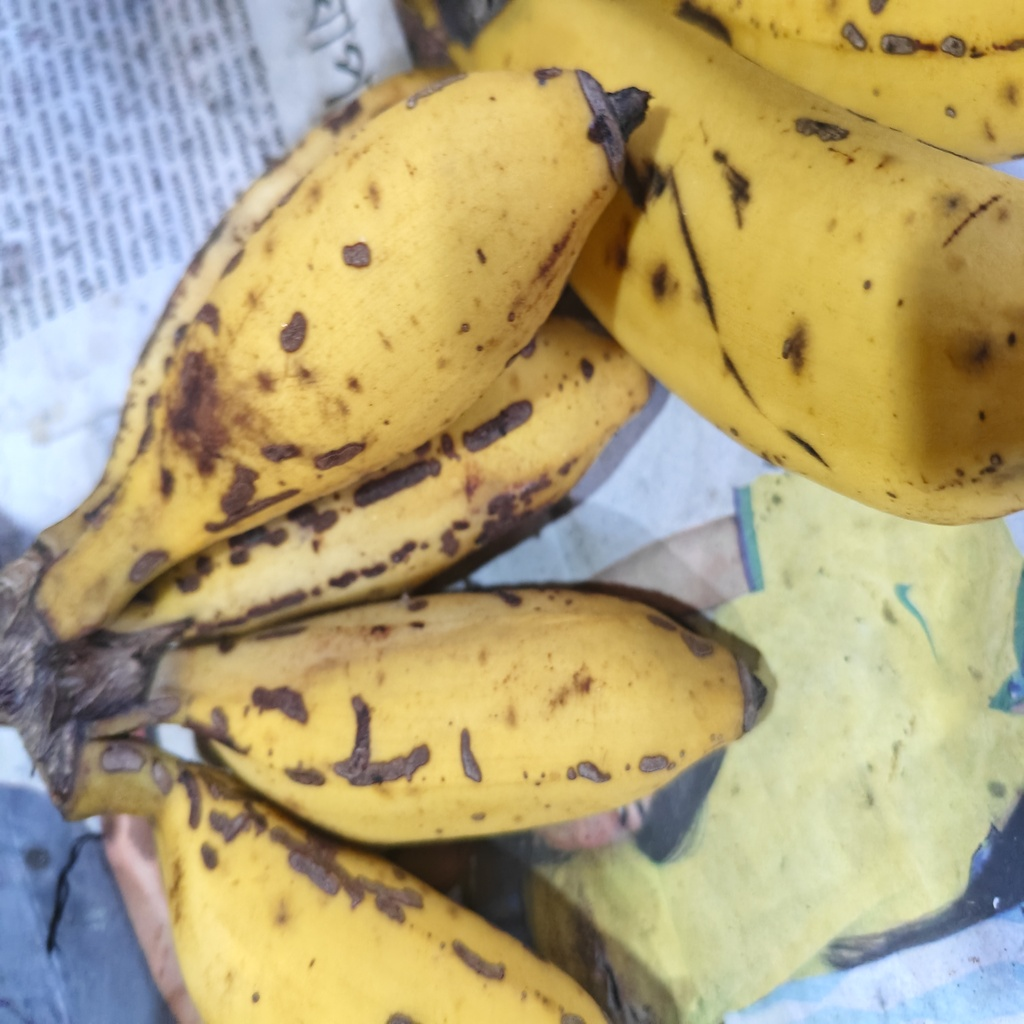unhealthy: (132, 84, 651, 534), (149, 318, 656, 632), (185, 588, 770, 836)
